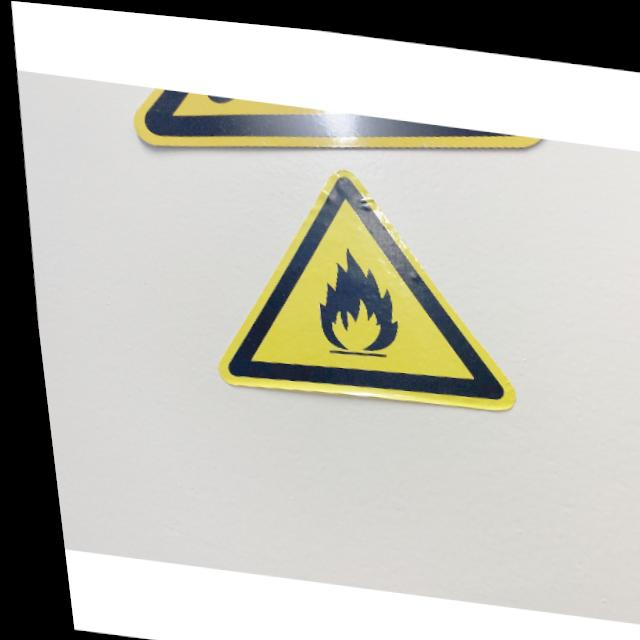fire hazard: (296, 236, 396, 361)
